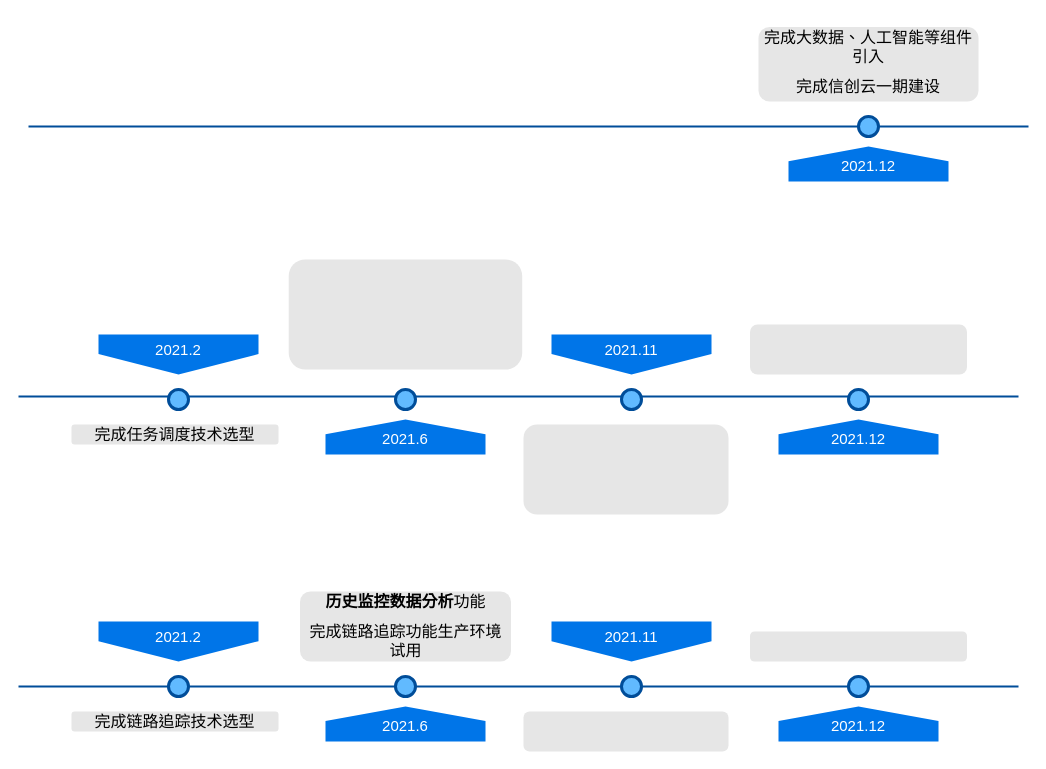
The diagram is 1046 pixels wide and 769 high, and some of its shapes have lost their labels. The shapes that lost their labels are listed below. From the top down, each one's centre as x and y in pixels, then its label:
At point (405, 314): "完成注册中心和配置中心升级技术方案评审 完成任务调度中心生产环境部署".
At point (858, 349): "完成中间件白皮书 完成微服务架构白皮书".
At point (625, 469): "完成5 0% 中台服务接入任务调度中心 完成新版本注册中心和配置中心生产使用".
At point (858, 646): "完成网关接入覆盖率提升 50%".
At point (625, 731): "完成 80% 中台服务接入链路追踪".
